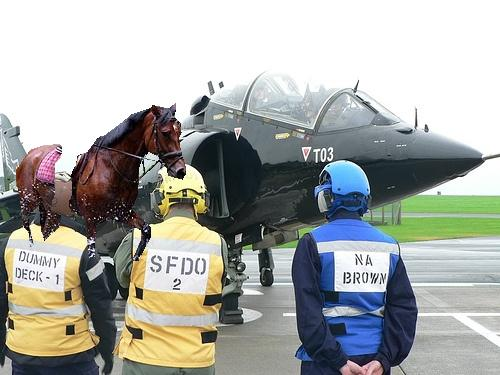tampered: (17, 104, 186, 261)
